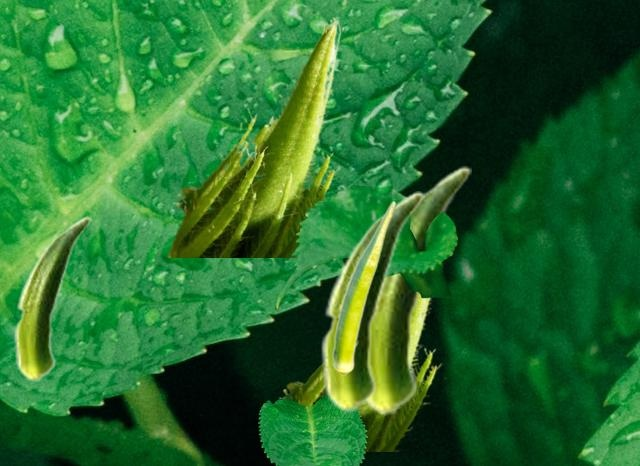okra: (165, 16, 344, 256), (363, 166, 470, 415), (278, 299, 446, 450), (320, 191, 423, 412), (13, 216, 90, 381), (332, 200, 395, 375)
